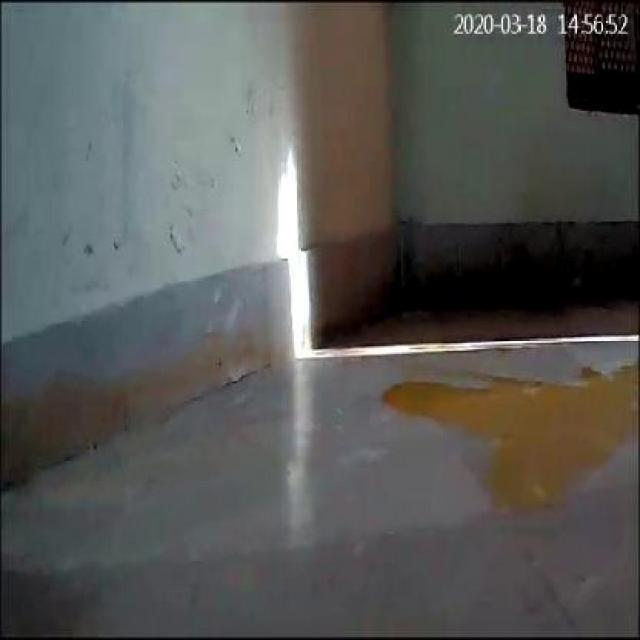spill: (373, 360, 633, 516)
